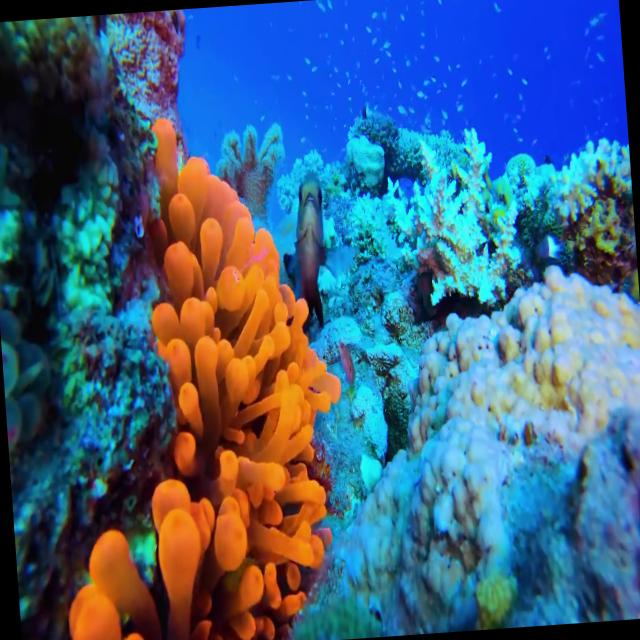fish: (282, 168, 336, 328)
